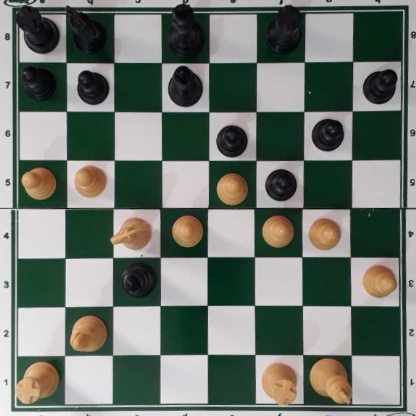black-bishop: (166, 65, 203, 108), (119, 259, 157, 298)
black-king: (167, 1, 205, 58)
black-knight: (65, 6, 106, 51)
black-pawn: (362, 67, 398, 105), (73, 70, 110, 105), (21, 64, 56, 99), (215, 121, 249, 157), (311, 116, 344, 151), (265, 166, 297, 201)
black-rook: (14, 1, 60, 53), (265, 4, 304, 53)
white-bishop: (69, 314, 109, 352)
white-king: (309, 356, 352, 405)
white-knight: (111, 218, 153, 250)
white-pawn: (360, 262, 397, 299), (307, 215, 341, 251), (213, 171, 249, 204), (21, 166, 57, 199), (73, 164, 107, 198), (261, 213, 294, 247), (171, 214, 203, 246)
white-rook: (14, 360, 59, 403), (260, 363, 297, 404)
